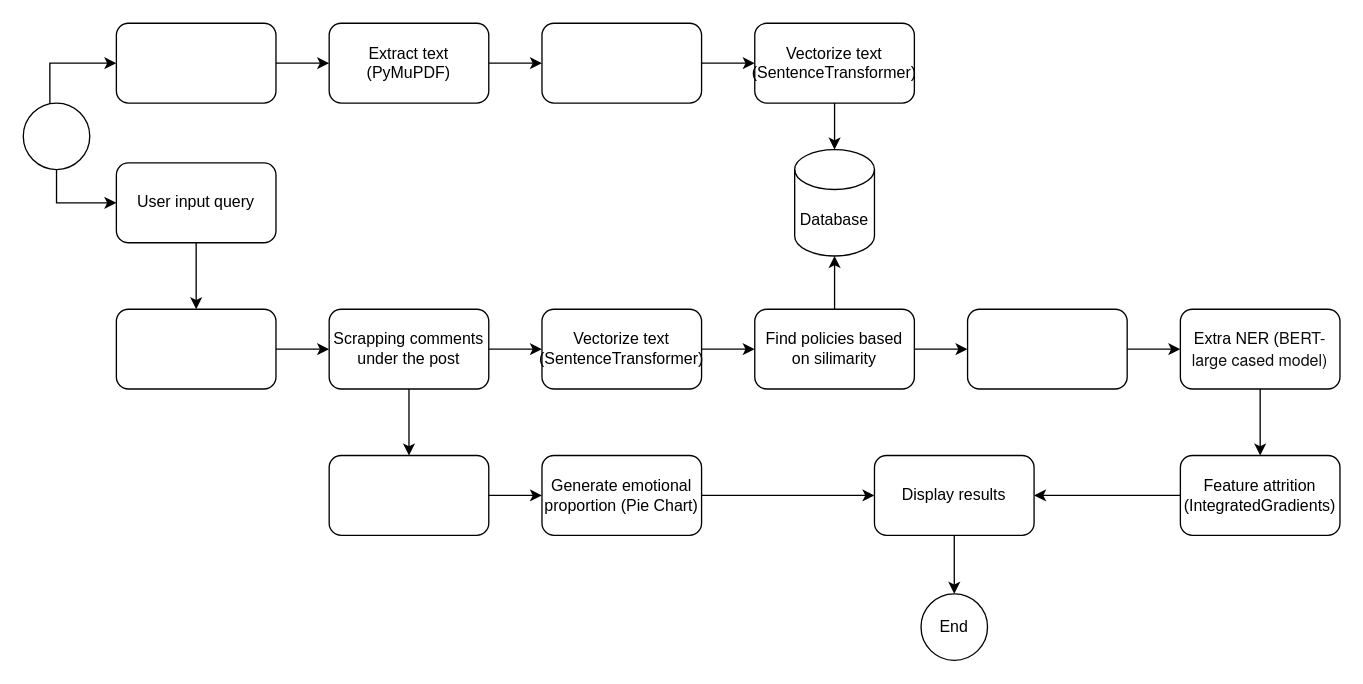
The diagram is 1363 pixels wide and 684 high, and some of its shapes have lost their labels. The centre of each missing label's shape, as x and y in pixels:
"Detect rumor (fine-tuned BERT)" goes at (1046,348).
"Extract NER ( spaCy NER model)" goes at (621,62).
"Scrapping posts on Reddit based on query" goes at (195,348).
"Sentiment analysis ( RoBERTa)" goes at (408,494).
"Start" goes at (56,136).
"User upload policy file" goes at (195,62).
